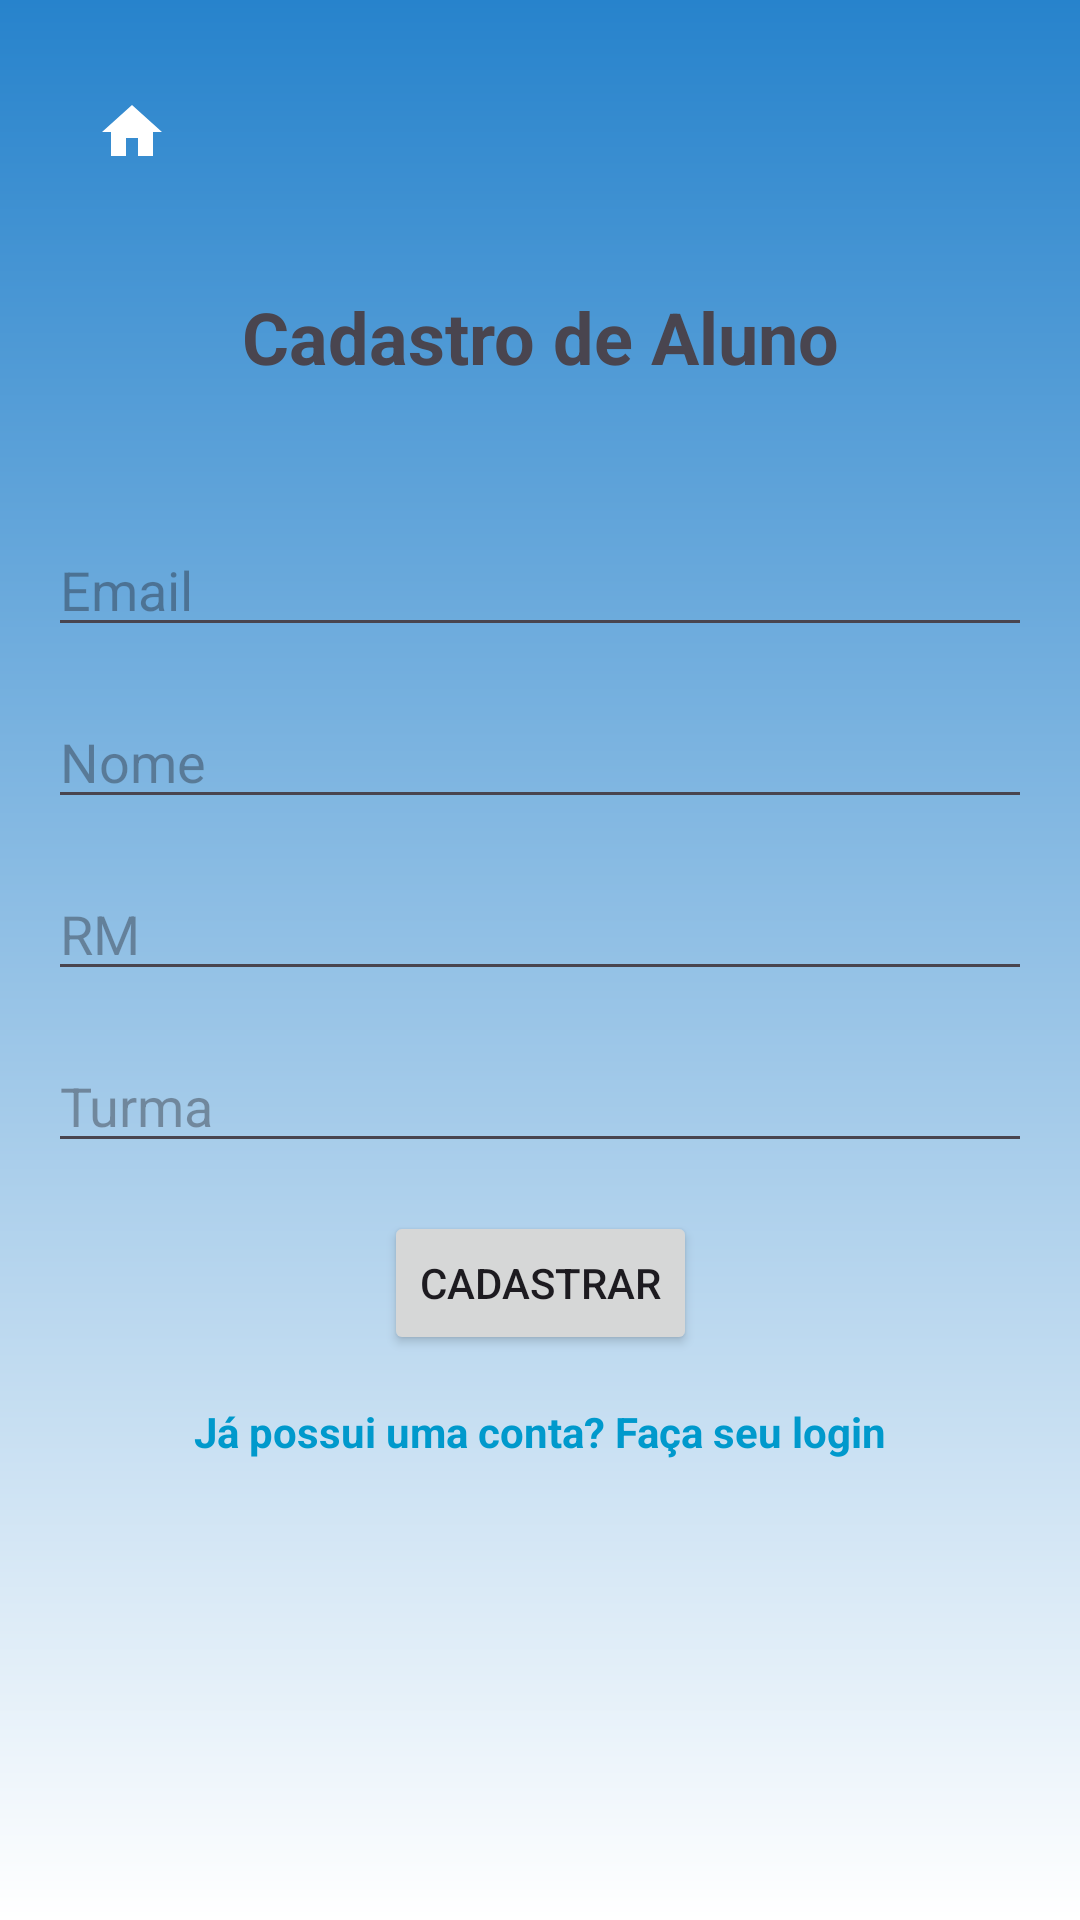

Where icons sit on this 1080x1920 app screen, as (left=x1, top=y1, right=x2, bottom=y2):
Home: (left=102, top=105, right=162, bottom=156)
